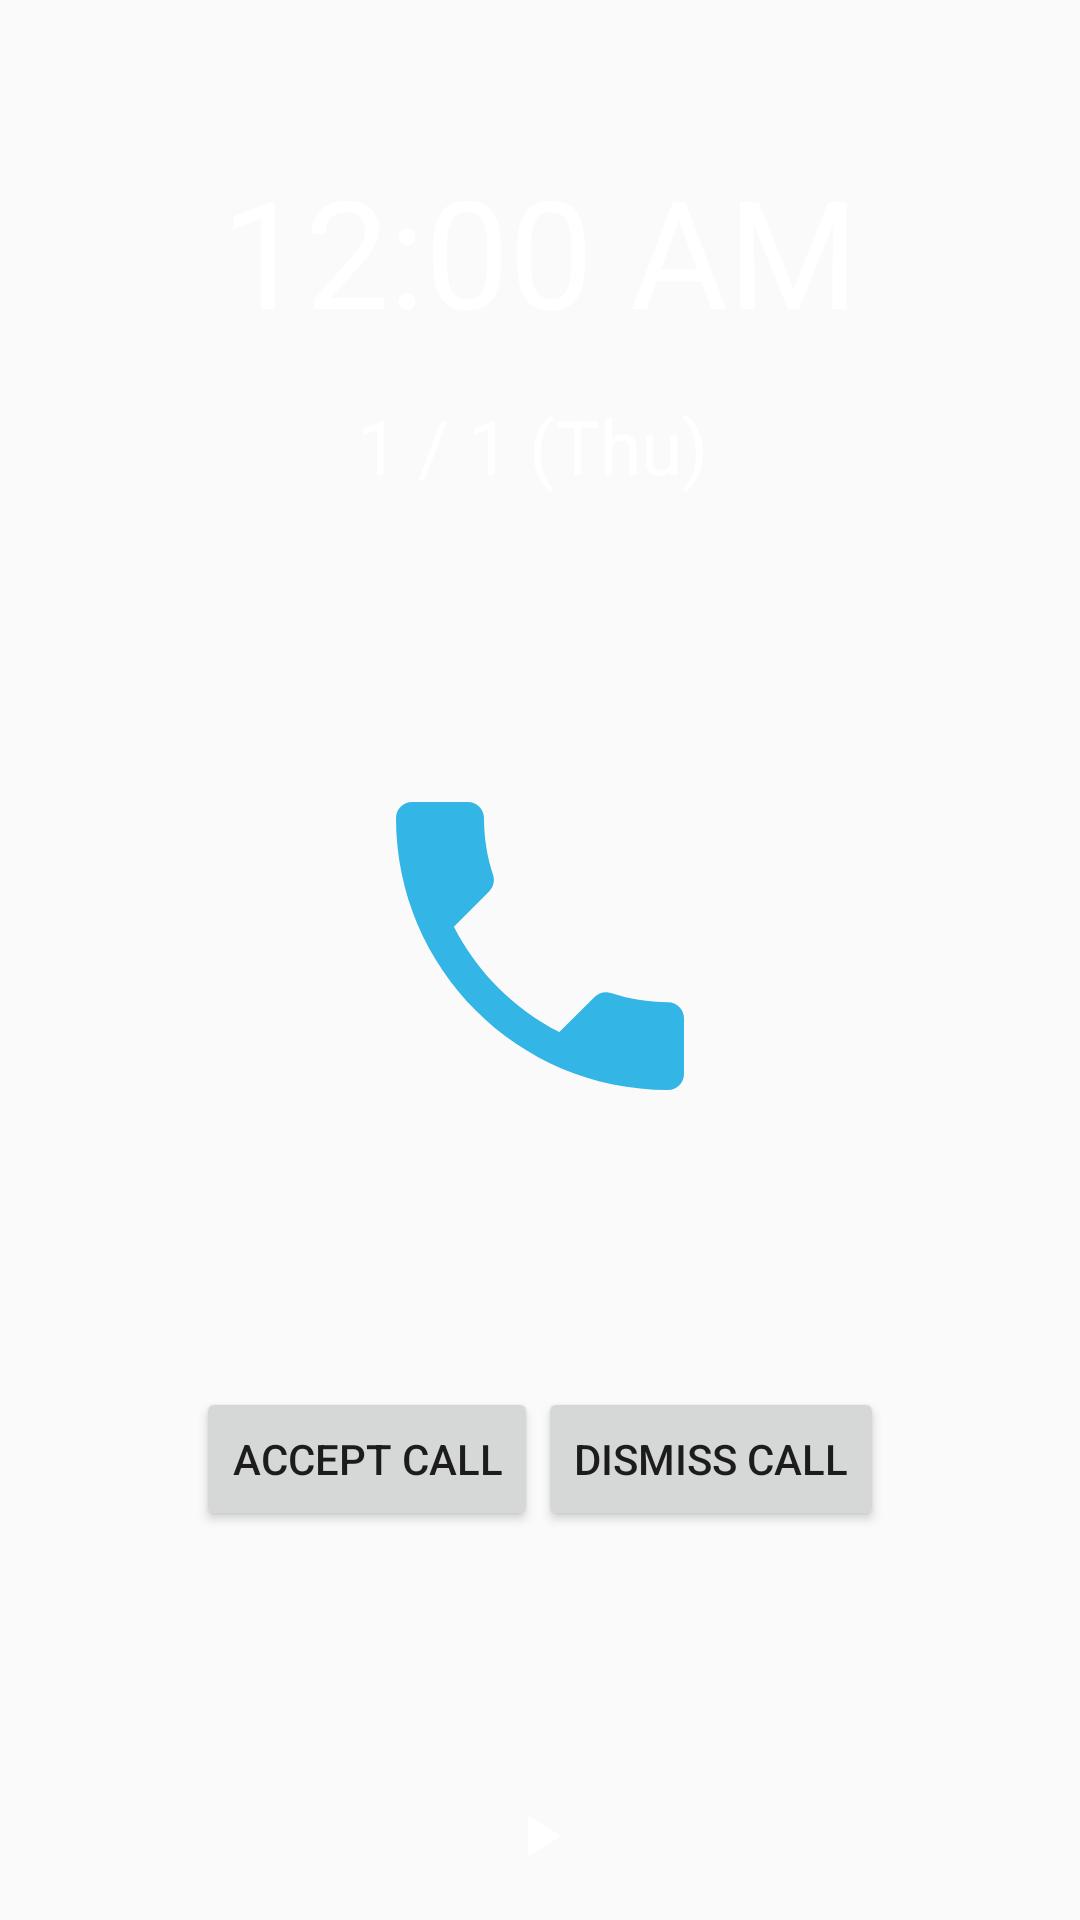

Icon bounding boxes for this 1080x1920 phone screenshot, format [x1=x1, y1=y1, x2=x2, y2=y2]:
call: [x1=396, y1=802, x2=684, y2=1090]
